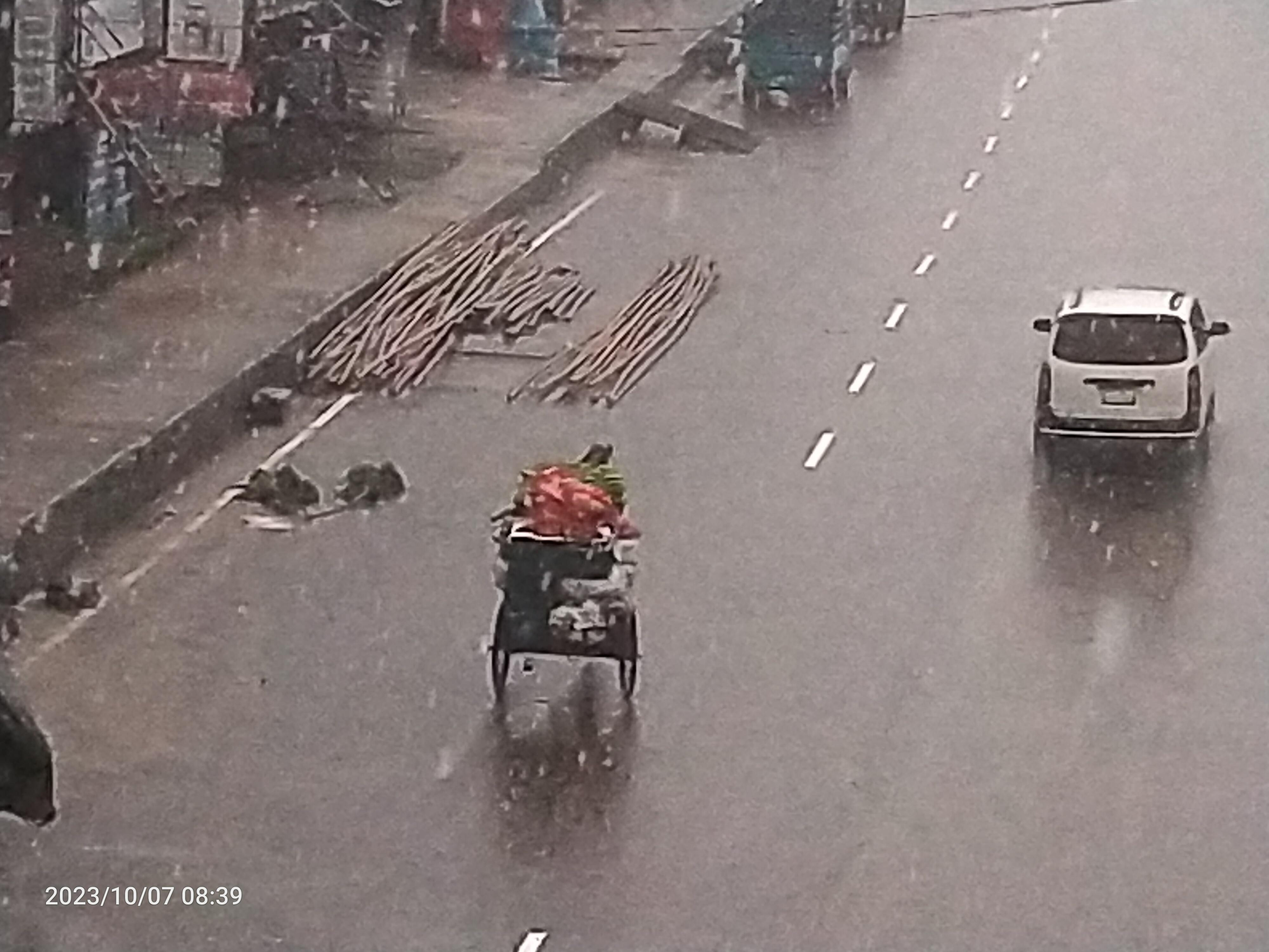Car: (443, 423, 727, 758), (988, 249, 1254, 506)
Truck: (713, 0, 888, 145)
